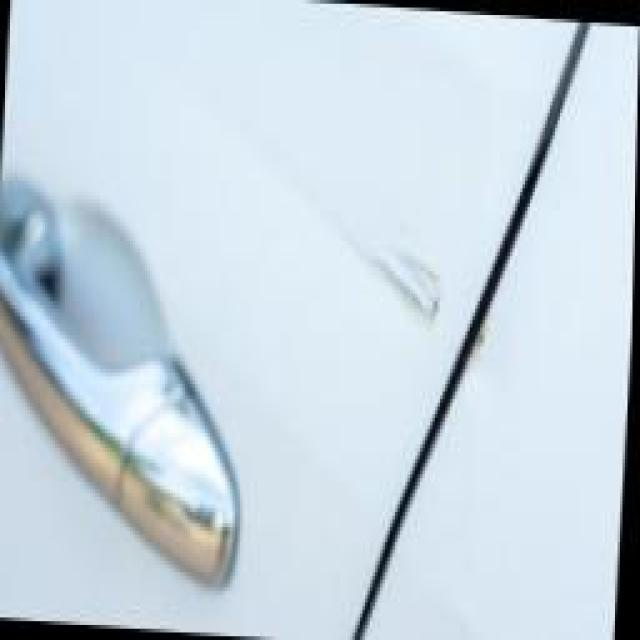Door: (360, 188, 456, 369)
